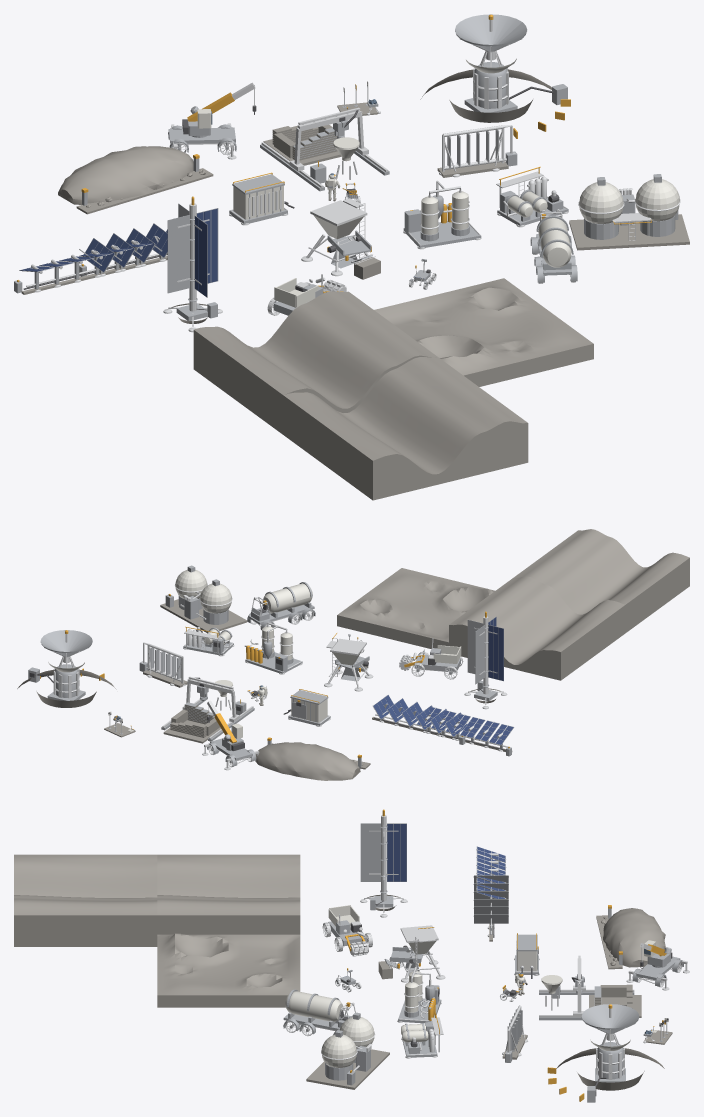
The model's file is resource-yard-e9352363.glb.
3 renders of one model, top to bottom at view 1: azimuth 30°, elevation 25°; view 2: azimuth 150°, elevation 25°; view 3: azimuth 270°, elevation 25°, orthographic. The views are drawn at different scales.
Parts seen in each view (by area): view 1: 020-rille-edge-tile/0, 019-rille-edge-tile/0, 021-regolith-ground-tile/0, 017-dust-berm/0, 010-nuclear-power-unit/1, 011-propellant-tank-farm/1, 009-vertical-solar-tower/1, 011-propellant-tank-farm/0, 004-sintering-print-gantry/5, 009-vertical-solar-tower/3, 007-solar-array-row/3, 001-regolith-hopper-screen/1 (+20 smaller); view 2: 019-rille-edge-tile/0, 020-rille-edge-tile/0, 021-regolith-ground-tile/0, 017-dust-berm/0, 010-nuclear-power-unit/1, 009-vertical-solar-tower/1, 011-propellant-tank-farm/1, 004-sintering-print-gantry/5, 007-solar-array-row/3, 012-cargo-hauler-tanker/0, 012-cargo-hauler-tanker/19, 011-propellant-tank-farm/2 (+20 smaller); view 3: 020-rille-edge-tile/0, 019-rille-edge-tile/0, 021-regolith-ground-tile/0, 017-dust-berm/0, 010-nuclear-power-unit/1, 009-vertical-solar-tower/1, 011-propellant-tank-farm/1, 007-solar-array-row/2, 012-cargo-hauler-tanker/19, 009-vertical-solar-tower/3, 001-regolith-hopper-screen/1, 004-sintering-print-gantry/5 (+16 smaller).
Boxes of the visible parts, <box> form: 020-rille-edge-tile/0: <box>283,357,528,500</box>; 019-rille-edge-tile/0: <box>193,291,437,434</box>; 021-regolith-ground-tile/0: <box>374,278,593,386</box>; 017-dust-berm/0: <box>58,146,213,214</box>; 010-nuclear-power-unit/1: <box>455,14,567,112</box>; 011-propellant-tank-farm/1: <box>579,179,679,223</box>; 009-vertical-solar-tower/1: <box>167,203,218,321</box>; 011-propellant-tank-farm/0: <box>569,214,689,250</box>; 004-sintering-print-gantry/5: <box>263,124,341,165</box>; 009-vertical-solar-tower/3: <box>195,208,217,296</box>; 007-solar-array-row/3: <box>83,224,167,271</box>; 001-regolith-hopper-screen/1: <box>301,198,375,276</box>; 019-rille-edge-tile/0: <box>449,576,625,680</box>; 020-rille-edge-tile/0: <box>514,529,689,633</box>; 021-regolith-ground-tile/0: <box>337,568,495,648</box>; 017-dust-berm/0: <box>255,742,370,780</box>; 010-nuclear-power-unit/1: <box>28,630,92,700</box>; 009-vertical-solar-tower/1: <box>467,616,503,700</box>; 011-propellant-tank-farm/1: <box>175,569,231,613</box>; 004-sintering-print-gantry/5: <box>163,704,220,743</box>; 007-solar-array-row/3: <box>373,695,467,736</box>; 012-cargo-hauler-tanker/0: <box>247,582,315,630</box>; 012-cargo-hauler-tanker/19: <box>262,583,312,613</box>; 011-propellant-tank-farm/2: <box>165,565,228,624</box>; 020-rille-edge-tile/0: <box>14,854,157,946</box>; 019-rille-edge-tile/0: <box>157,854,300,934</box>; 021-regolith-ground-tile/0: <box>157,933,300,1007</box>; 017-dust-berm/0: <box>596,908,665,969</box>; 010-nuclear-power-unit/1: <box>581,1004,639,1102</box>; 009-vertical-solar-tower/1: <box>360,823,406,910</box>; 011-propellant-tank-farm/1: <box>321,1017,374,1067</box>; 007-solar-array-row/2: <box>474,875,508,934</box>; 012-cargo-hauler-tanker/19: <box>285,991,343,1021</box>; 009-vertical-solar-tower/3: <box>387,824,406,881</box>; 001-regolith-hopper-screen/1: <box>388,925,445,982</box>; 004-sintering-print-gantry/5: <box>589,984,641,1017</box>.
Size of the model in its own units: 47.1 by 9.02 by 56.66.
